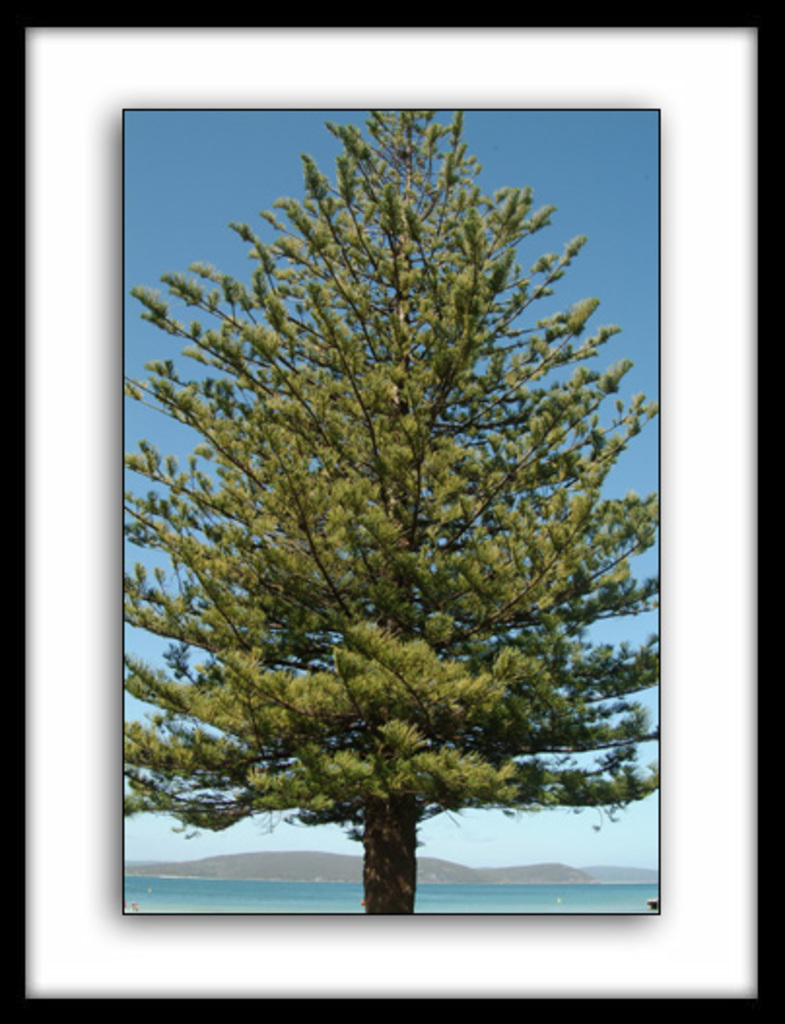Tree: (123, 110, 659, 913)
